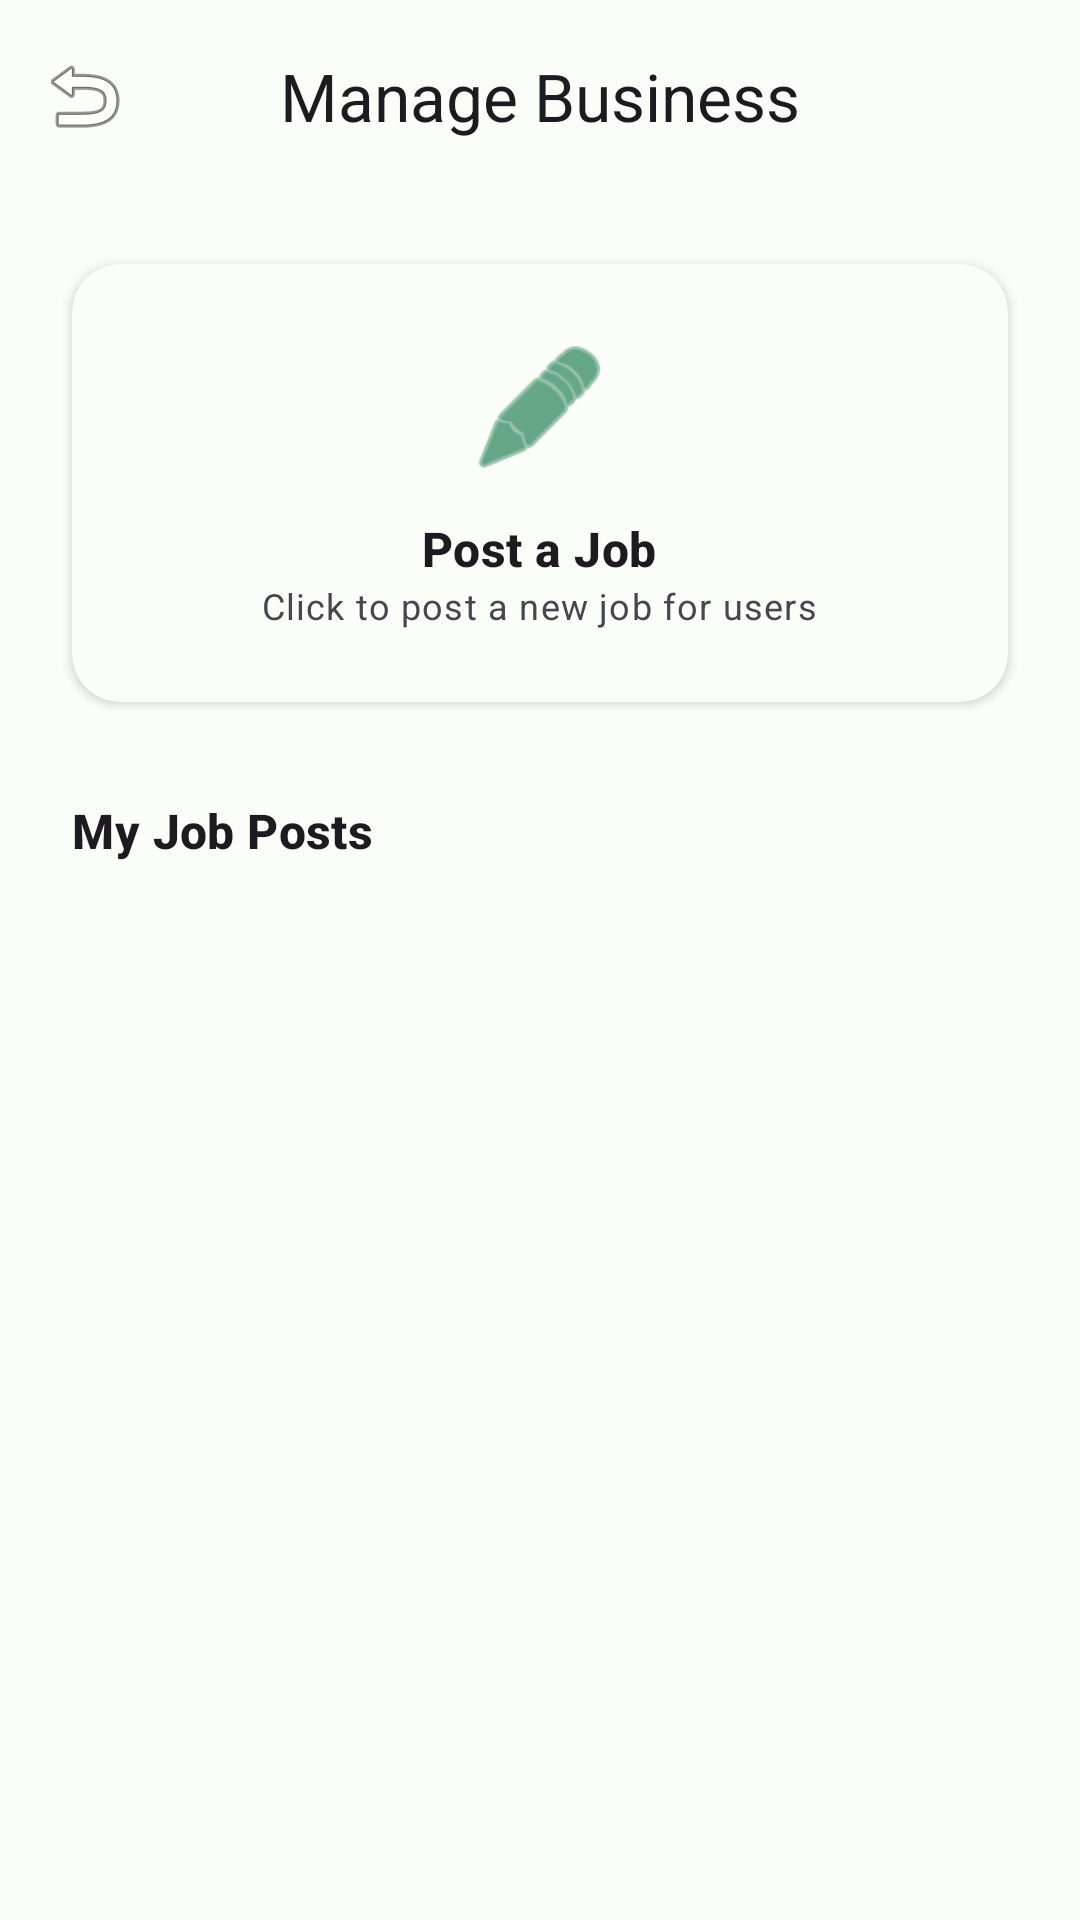

Icons on this 1080 × 1920 Android screen, each with the point to tap as (x=x, y=y):
edit: (x=539, y=407)
